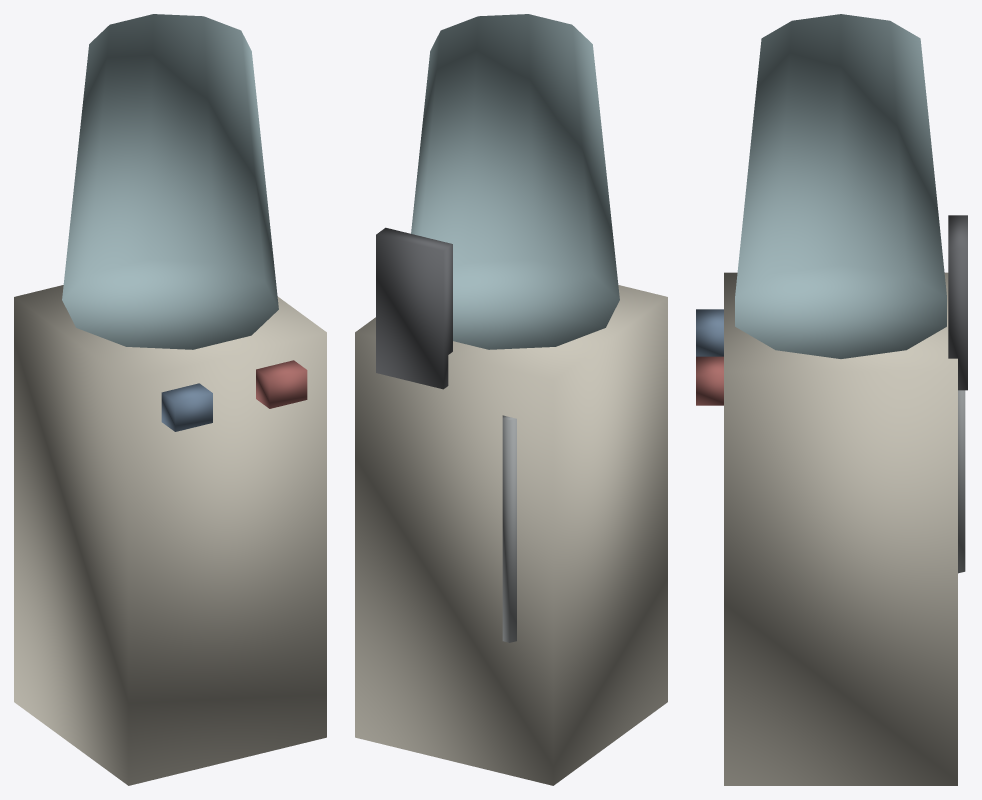
Rendered from water_cooler__service.glb.
3 renders of one model, left to right at view 1: azimuth 30°, elevation 25°; view 2: azimuth 150°, elevation 25°; view 3: azimuth 270°, elevation 25°, orthographic. The views are drawn at different scales.
Parts seen in each view (by area): view 1: world; view 2: world; view 3: world.
Boxes of the visible parts, x1,y1,x2,y2 form: world: [14, 14, 326, 785]; world: [355, 14, 667, 785]; world: [696, 14, 967, 785].
Bounding box in the file's own units: 0.42 × 1.36 × 0.4875.
